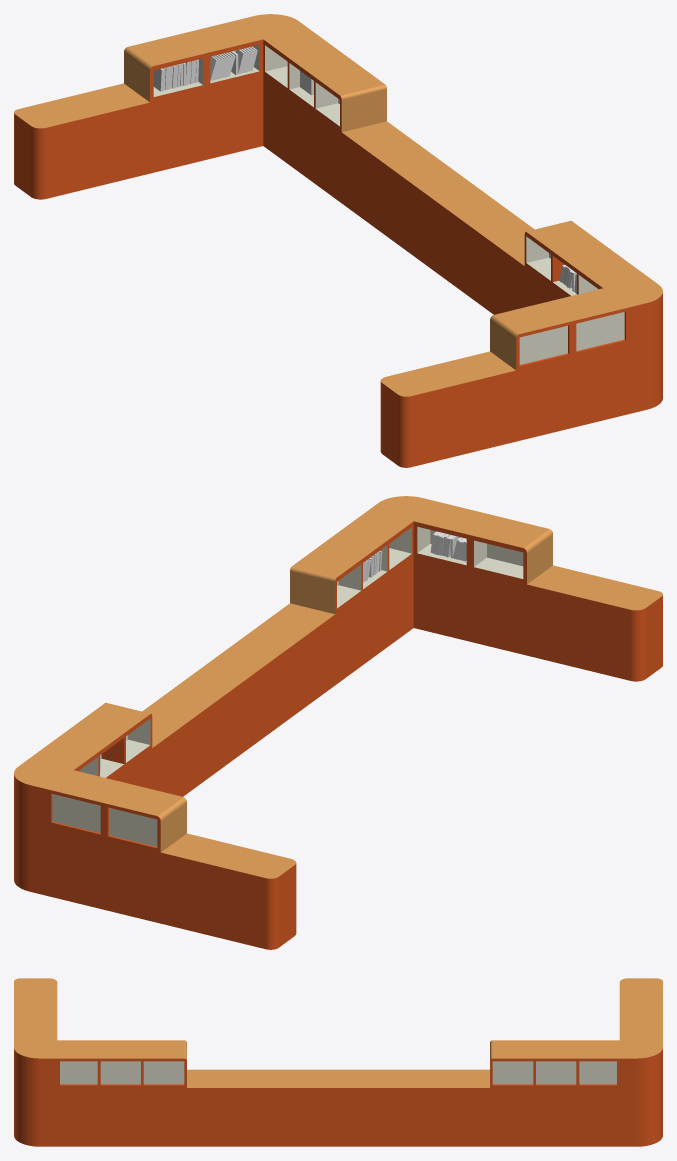
The model's file is desk.dae.
3 renders of one model, top to bottom at view 1: azimuth 30°, elevation 25°; view 2: azimuth 150°, elevation 25°; view 3: azimuth 270°, elevation 25°, orthographic. The views are drawn at different scales.
Visible parts, largest first — view 1: desk; view 2: desk; view 3: desk.
Part boxes in pixels (bbox=[...]): desk: bbox=[14, 14, 662, 467]; desk: bbox=[14, 496, 662, 949]; desk: bbox=[14, 978, 662, 1146].
Size of the model in its own units: 12 by 30 by 4.5.
